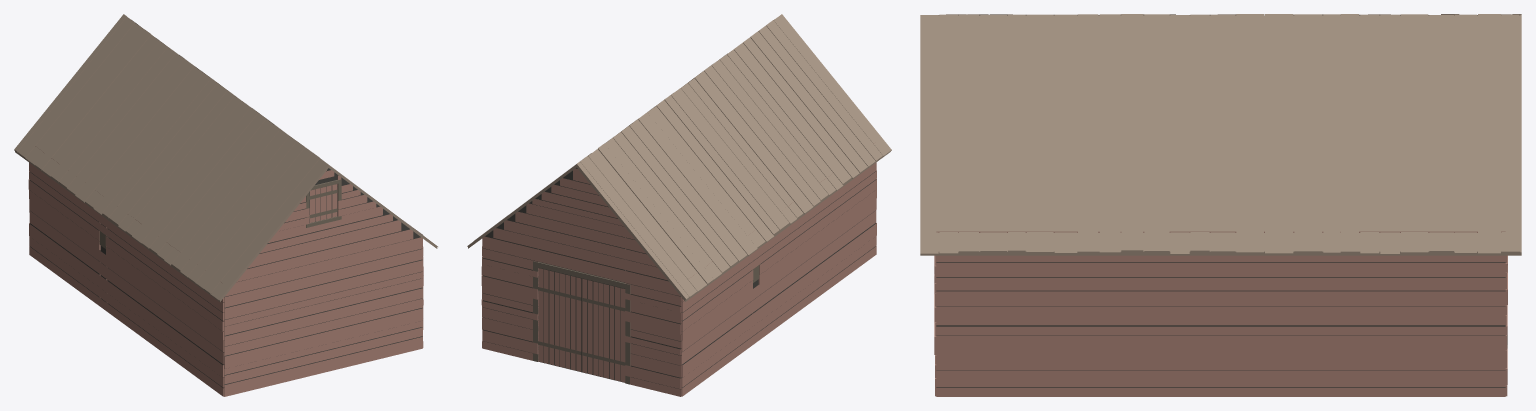
File: recon_1835_blk_randolph_market_a2_08__inferred_1835.glb
3 renders of one model, left to right at view 1: azimuth 30°, elevation 25°; view 2: azimuth 150°, elevation 25°; view 3: azimuth 270°, elevation 25°, orthographic. The views are drawn at different scales.
Parts seen in each view (by area): view 1: recon_1835_blk_randolph_market_a2_08__inferred_1835; view 2: recon_1835_blk_randolph_market_a2_08__inferred_1835; view 3: recon_1835_blk_randolph_market_a2_08__inferred_1835.
Part boxes in pixels (bbox=[...]): recon_1835_blk_randolph_market_a2_08__inferred_1835: bbox=[14, 14, 437, 396]; recon_1835_blk_randolph_market_a2_08__inferred_1835: bbox=[467, 14, 891, 396]; recon_1835_blk_randolph_market_a2_08__inferred_1835: bbox=[920, 14, 1521, 396].
Bounding box in the file's own units: 7.32 × 6.74 × 11.8.
